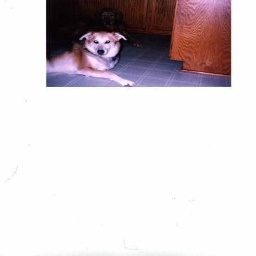dog: (43, 29, 135, 86)
